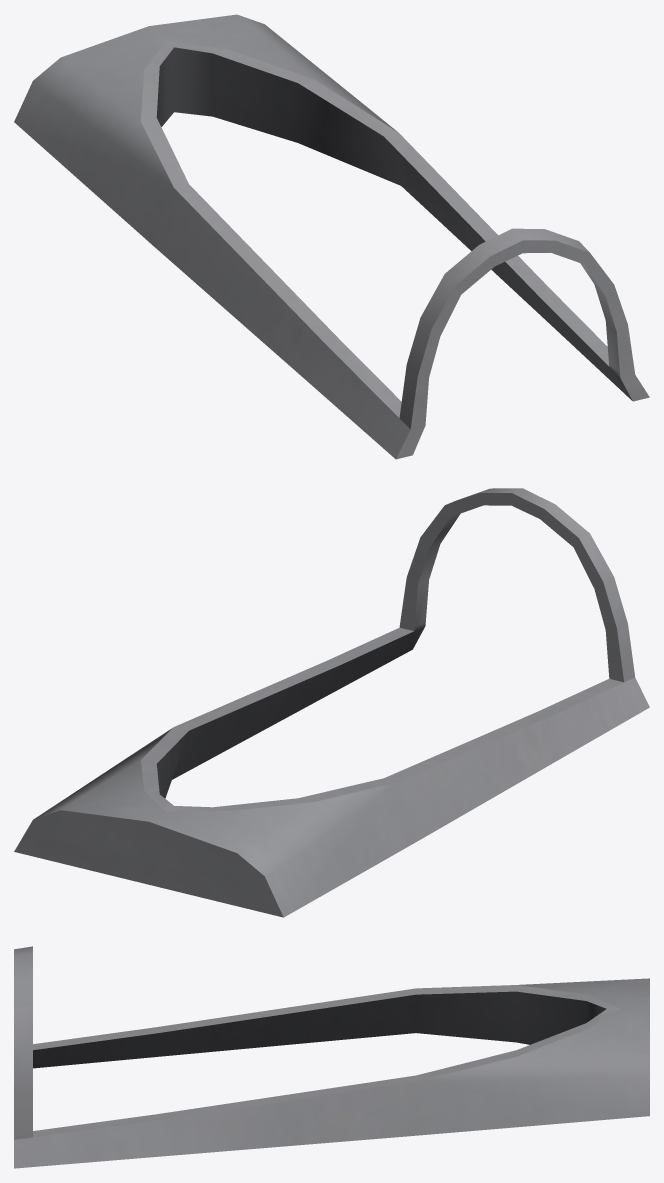
Rendered from hornet_canopy.fbx.
3 views of the same model, one above another, from view 1: azimuth 30°, elevation 25°; view 2: azimuth 150°, elevation 25°; view 3: azimuth 270°, elevation 25° (orthographic). The views are drawn at different scales.
Visible parts, largest first — view 1: F_A18_canopy1; view 2: F_A18_canopy1; view 3: F_A18_canopy1.
Boxes of the visible parts, left/top/right/bottom form: F_A18_canopy1: left=14, top=14, right=649, bottom=459; F_A18_canopy1: left=14, top=488, right=649, bottom=917; F_A18_canopy1: left=14, top=946, right=649, bottom=1168.
Bounding box in the file's own units: 113 × 76.44 × 270.
